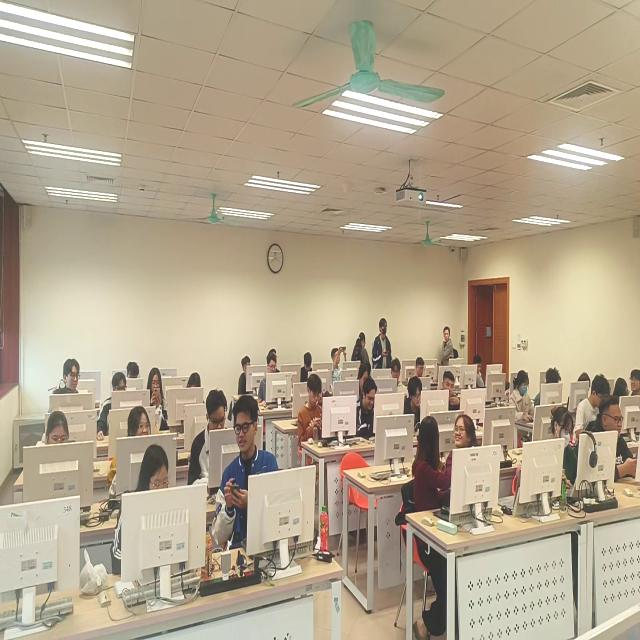raise_head: (111, 406, 164, 461), (389, 354, 406, 397)
stand: (371, 318, 393, 385), (442, 324, 456, 379)
using_computer: (115, 450, 186, 585), (35, 414, 86, 519), (586, 399, 640, 495), (190, 388, 233, 492), (545, 408, 581, 502), (351, 376, 389, 445), (96, 374, 133, 442), (508, 372, 546, 434), (441, 371, 476, 429), (578, 377, 610, 438), (258, 353, 286, 417), (543, 362, 573, 412), (404, 376, 428, 429), (469, 354, 498, 397), (182, 371, 206, 417), (236, 355, 260, 401), (414, 357, 441, 391), (301, 351, 320, 386)
using_phone: (216, 398, 290, 557), (297, 374, 335, 455), (144, 365, 170, 429), (332, 345, 355, 378)
